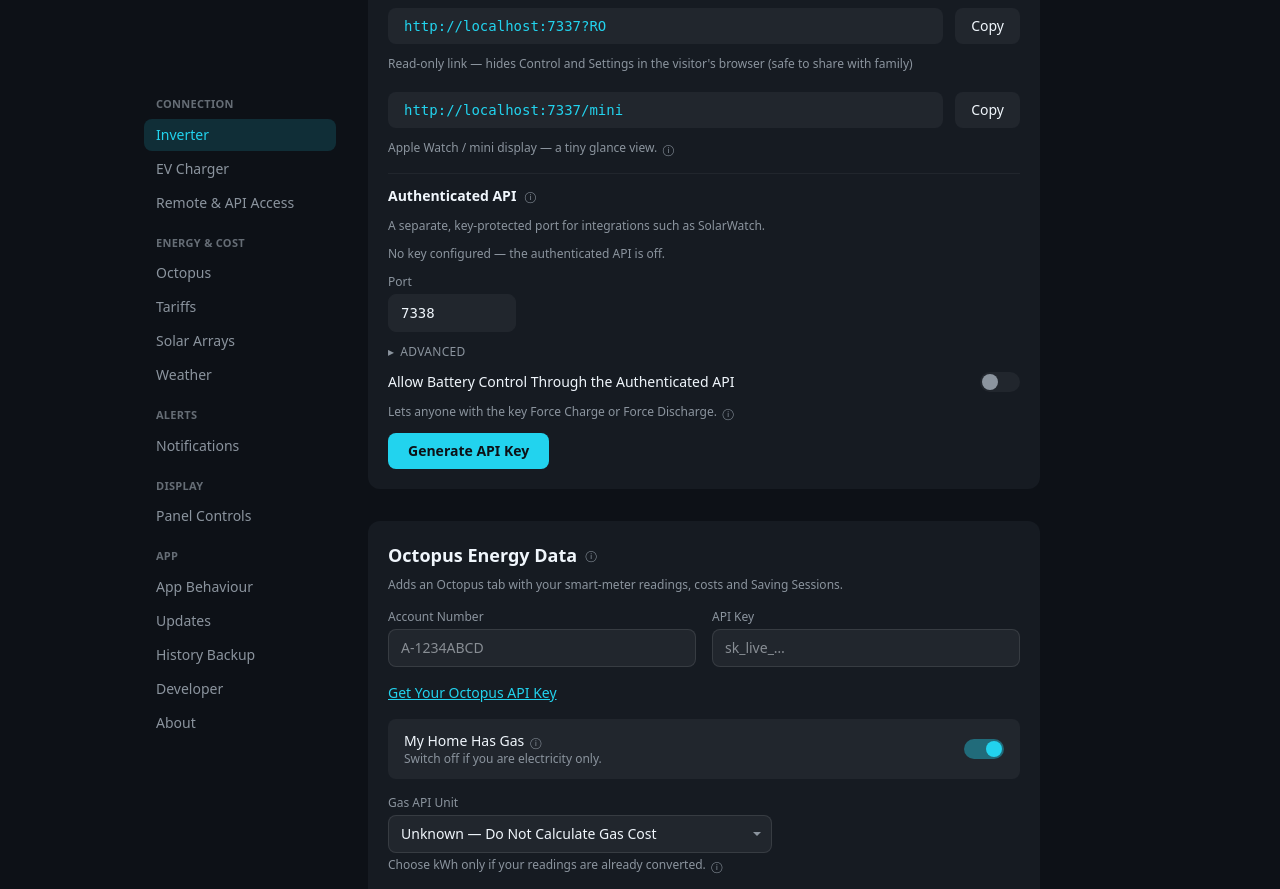
Test: <SettingsPage/> — save handlers & validation › authenticated API control permission toggle › shows a failure and re-enables the button when generating a key fails
(page scrolled)
Click the button "Generate API Key" at (469, 451), box [388,433,549,469]
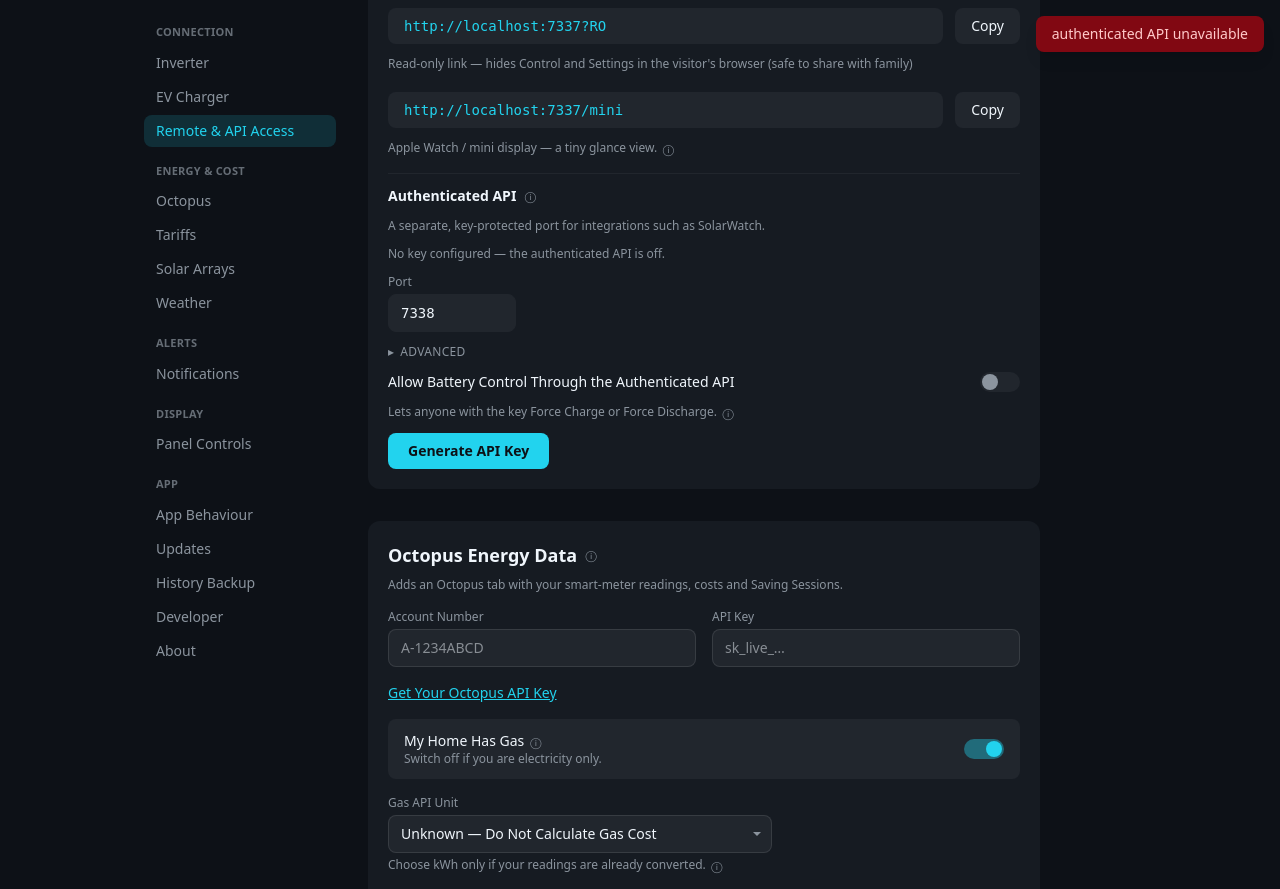
expect the text "authenticated API unavailable" is shown: met, box [1036,16,1264,52]
